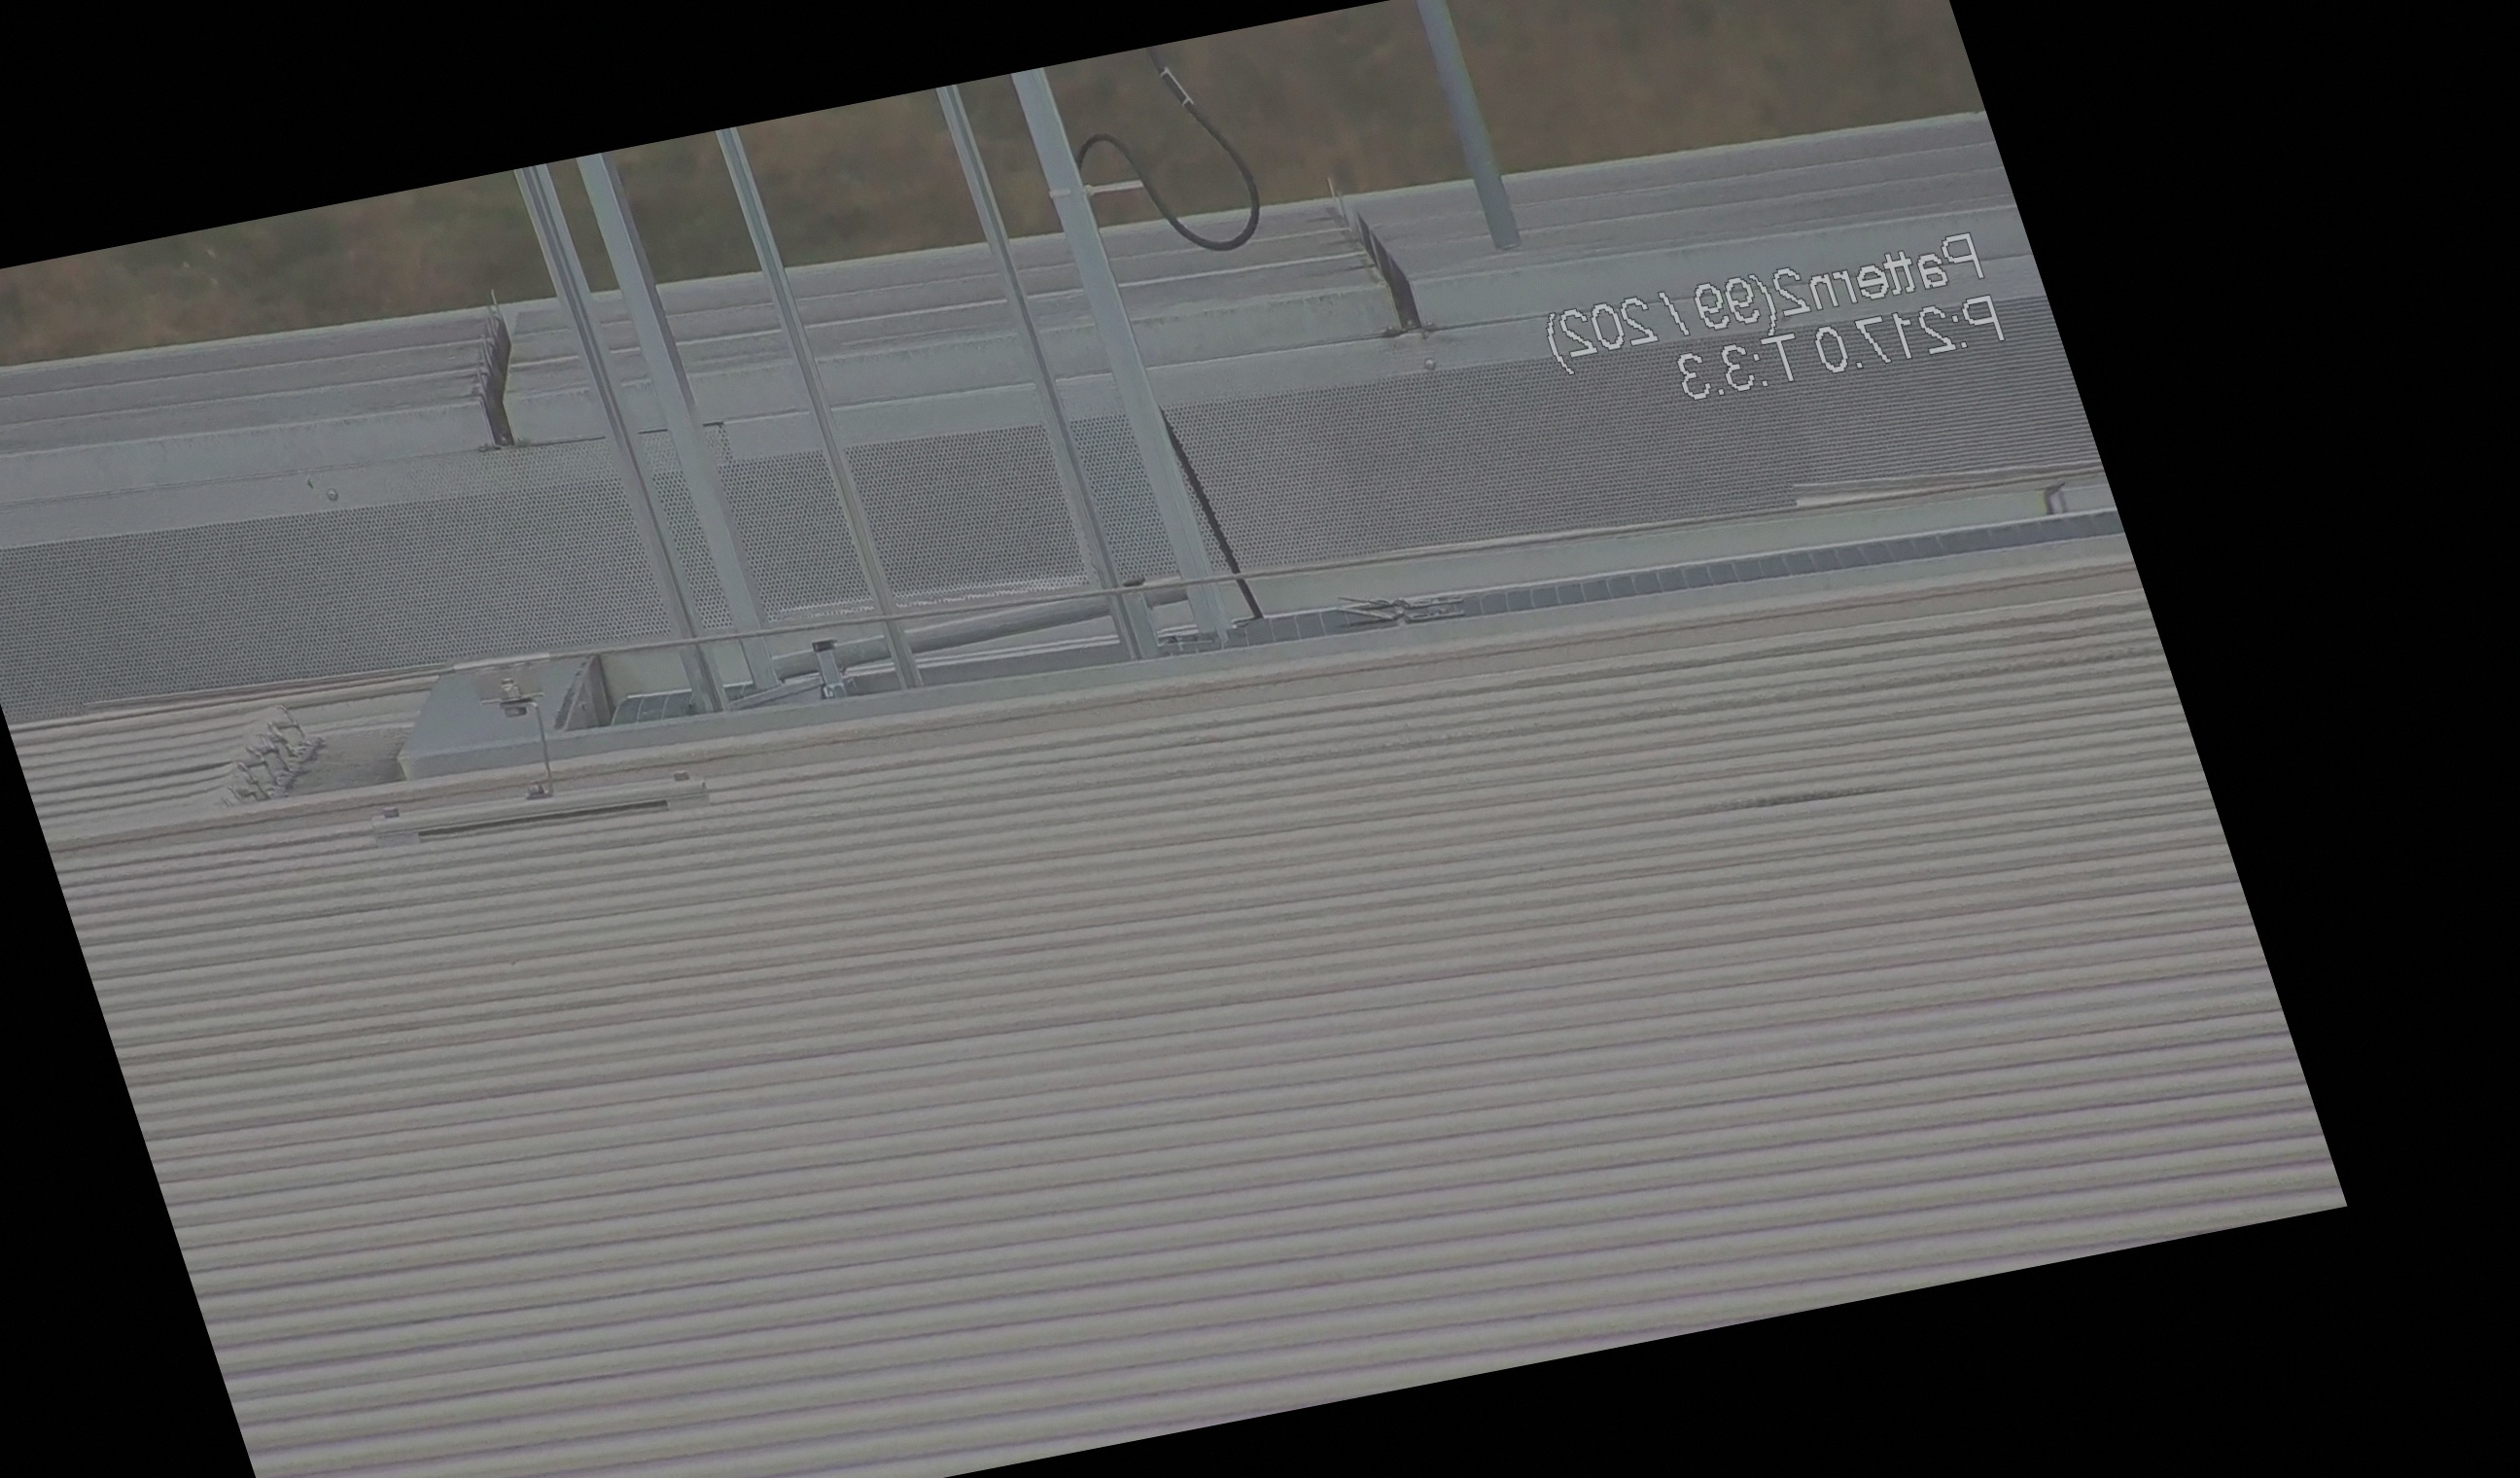Other: (420, 289, 550, 459)
